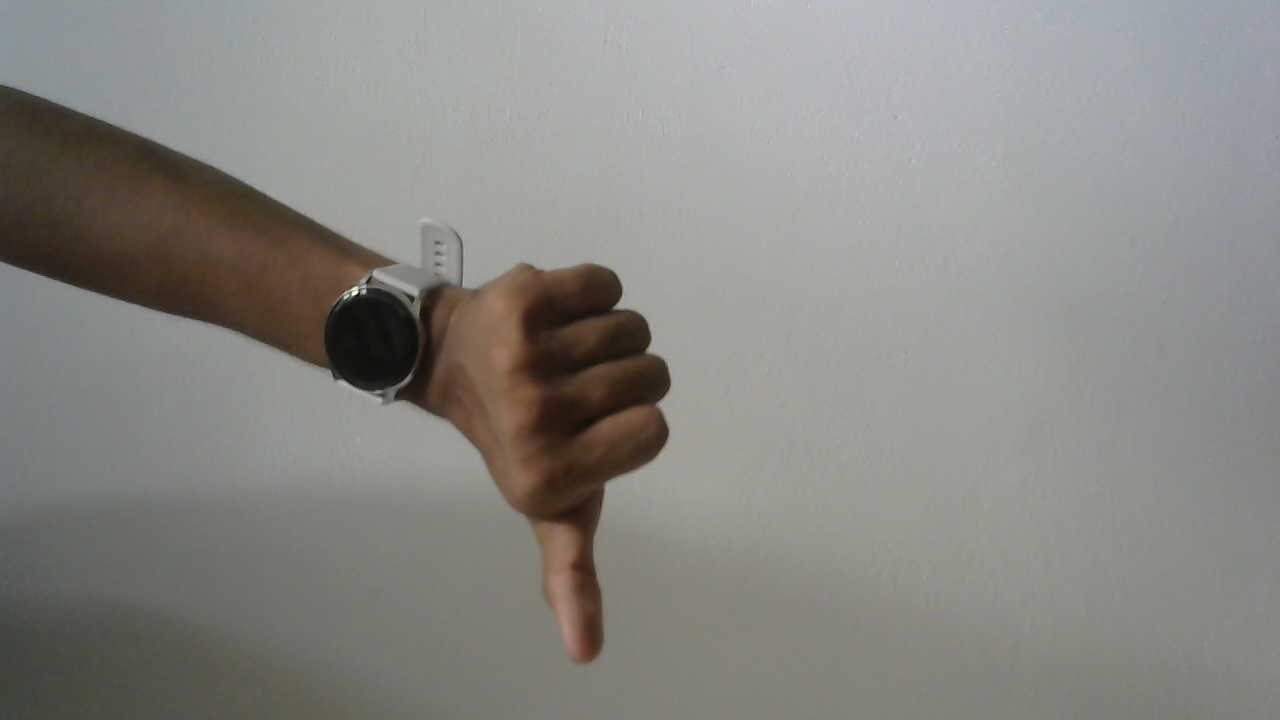thumbsdown: (431, 210, 699, 671)
